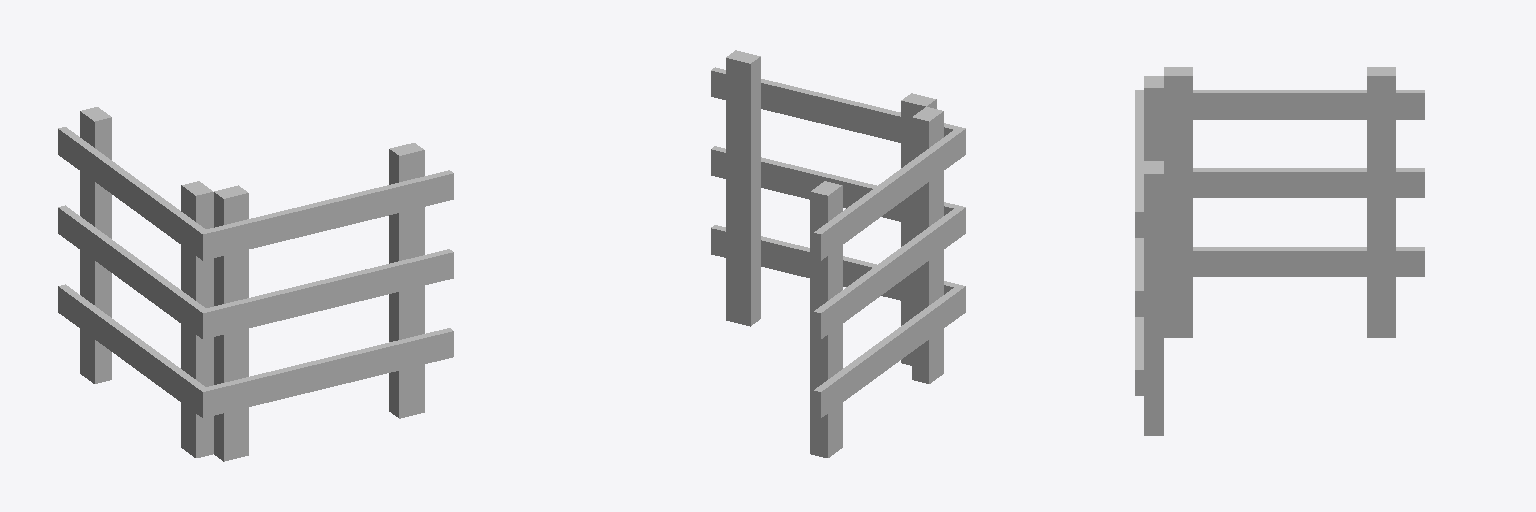
The model's file is woodfencecornerx-.obj.
3 views of the same model, side by side, from view 1: azimuth 30°, elevation 25°; view 2: azimuth 150°, elevation 25°; view 3: azimuth 270°, elevation 25° (orthographic).
Parts seen in each view (by area): view 1: bedx+.000_bedx+.002; view 2: bedx+.000_bedx+.002; view 3: bedx+.000_bedx+.002.
Boxes of the visible parts, box(x1,y1,x2,y2) form: bedx+.000_bedx+.002: box(58, 107, 453, 461); bedx+.000_bedx+.002: box(711, 50, 965, 457); bedx+.000_bedx+.002: box(1135, 67, 1424, 435).
Bounding box in the file's own units: 1 × 1 × 1.